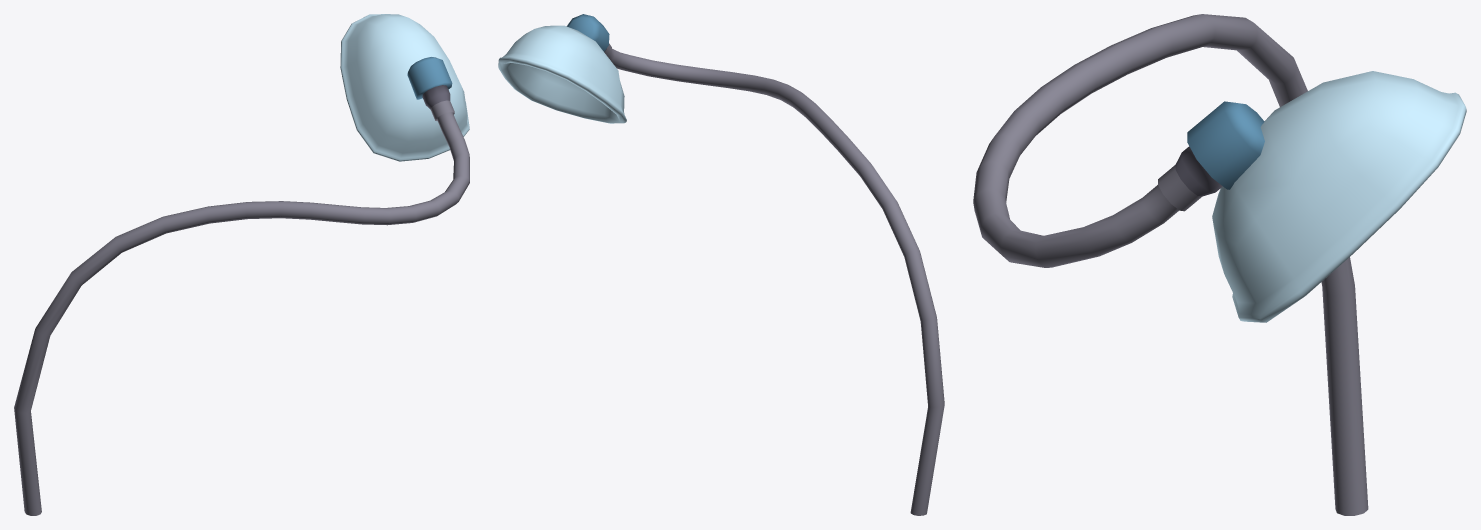
The model's file is Oxygen_Mask.fbx.
The picture shows the model from 3 angles, left to right: view 1: azimuth 30°, elevation 25°; view 2: azimuth 150°, elevation 25°; view 3: azimuth 270°, elevation 25°; orthographic projection. The views are drawn at different scales.
Parts seen in each view (by area): view 1: Oxygen_Mask; view 2: Oxygen_Mask; view 3: Oxygen_Mask.
Part boxes in pixels (x1,y1,x2,y2): Oxygen_Mask: (14, 14, 469, 515); Oxygen_Mask: (498, 14, 944, 515); Oxygen_Mask: (973, 14, 1466, 515).
Bounding box in the file's own units: 429 × 372 × 215.
1 material, 1 textured.
